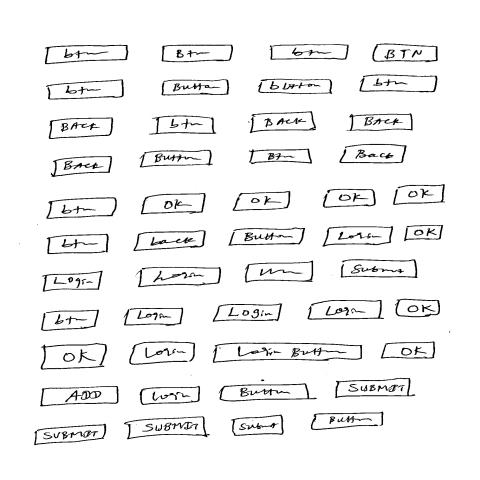Button: (213, 343, 364, 364), (125, 417, 209, 440), (40, 344, 109, 371), (45, 45, 129, 66), (138, 267, 222, 288), (40, 386, 120, 408), (220, 384, 312, 402), (47, 80, 125, 101), (307, 300, 384, 321), (335, 378, 412, 399), (130, 342, 197, 366), (133, 231, 206, 253), (46, 198, 118, 220), (250, 112, 317, 135), (245, 262, 315, 284), (34, 425, 107, 446), (322, 227, 394, 248), (340, 260, 419, 279), (141, 194, 208, 216), (229, 228, 306, 247), (49, 118, 114, 140), (310, 413, 385, 432), (359, 75, 438, 93), (340, 144, 408, 164), (43, 271, 104, 293), (213, 304, 283, 323), (47, 234, 110, 255), (373, 43, 439, 63), (41, 310, 100, 332), (162, 45, 234, 63), (270, 45, 350, 61), (154, 116, 217, 136), (232, 192, 292, 212), (140, 387, 202, 406), (162, 80, 231, 97), (349, 114, 414, 132), (124, 308, 184, 327), (259, 80, 334, 95), (393, 185, 446, 206), (232, 416, 285, 437), (248, 149, 313, 165), (323, 190, 377, 209), (396, 299, 441, 318), (404, 225, 443, 242)
